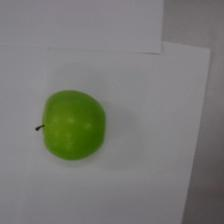green: (35, 90, 106, 160)
